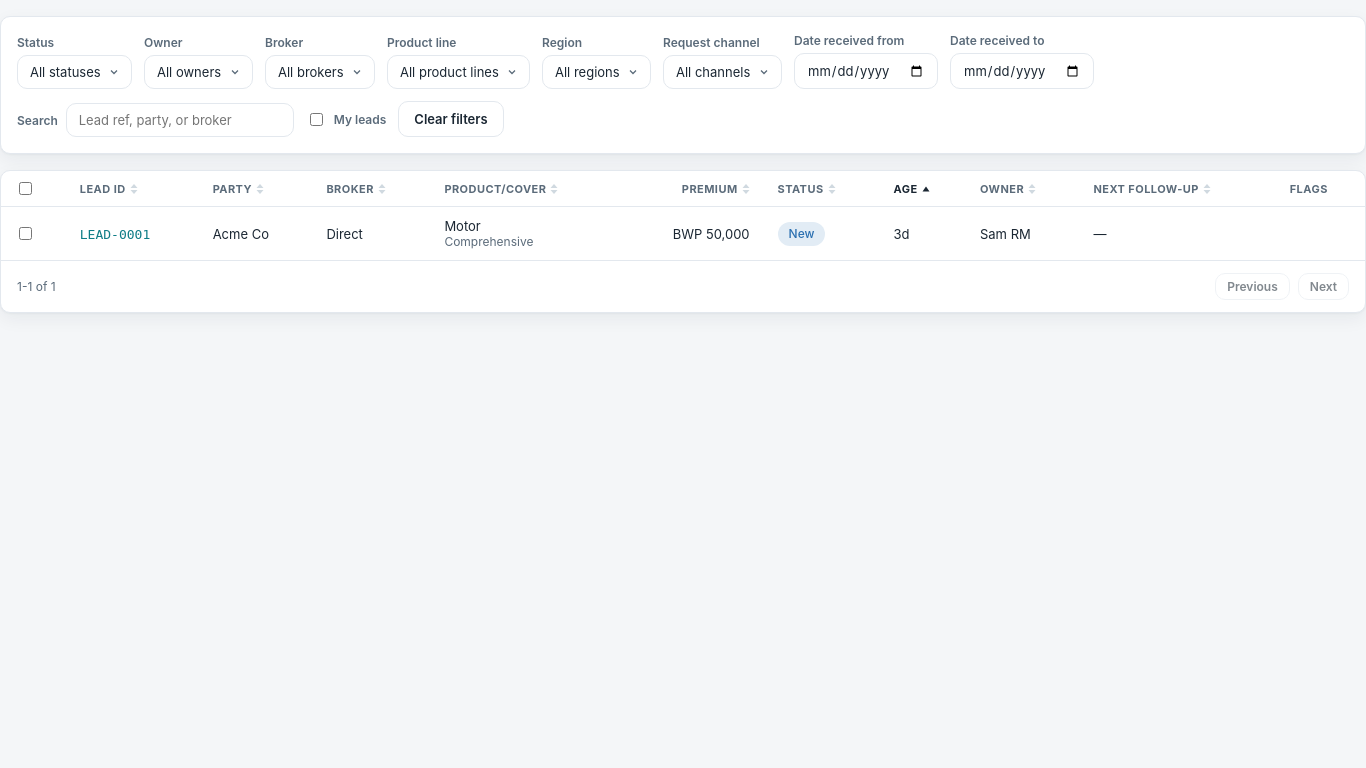
Test case: LeadsListPage › click_WhenBulkReassignSubmittedWithoutNote_ShouldShowInlineError
The width and height of the screenshot is (1366, 768).
expect the table with test id "leads-table" is shown: met, box x1=1 y1=171 x2=1365 y2=260
Click the checkbox named "Select lead LEAD-0001": (26, 234) x1=19 y1=227 x2=32 y2=240
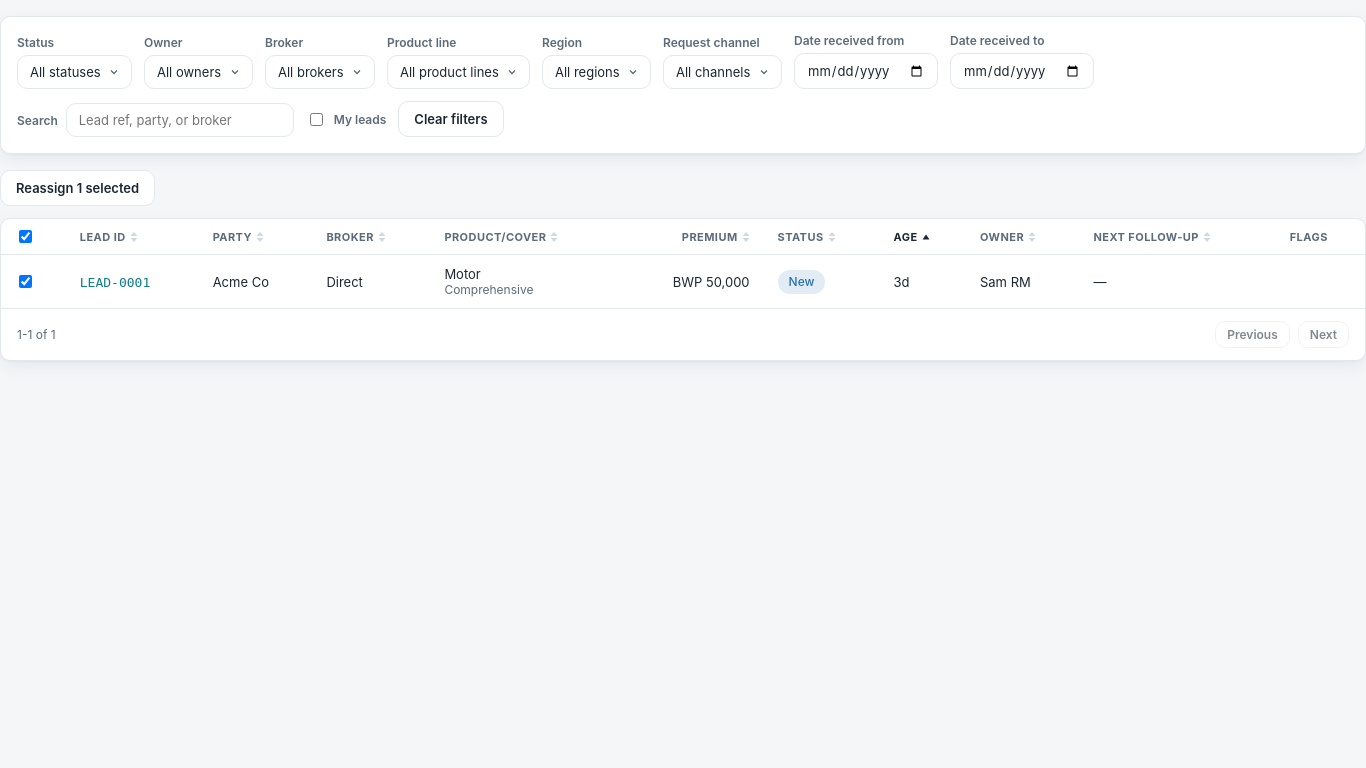
Click the button with test id "bulk-reassign-button": (78, 188) x1=0 y1=170 x2=155 y2=206
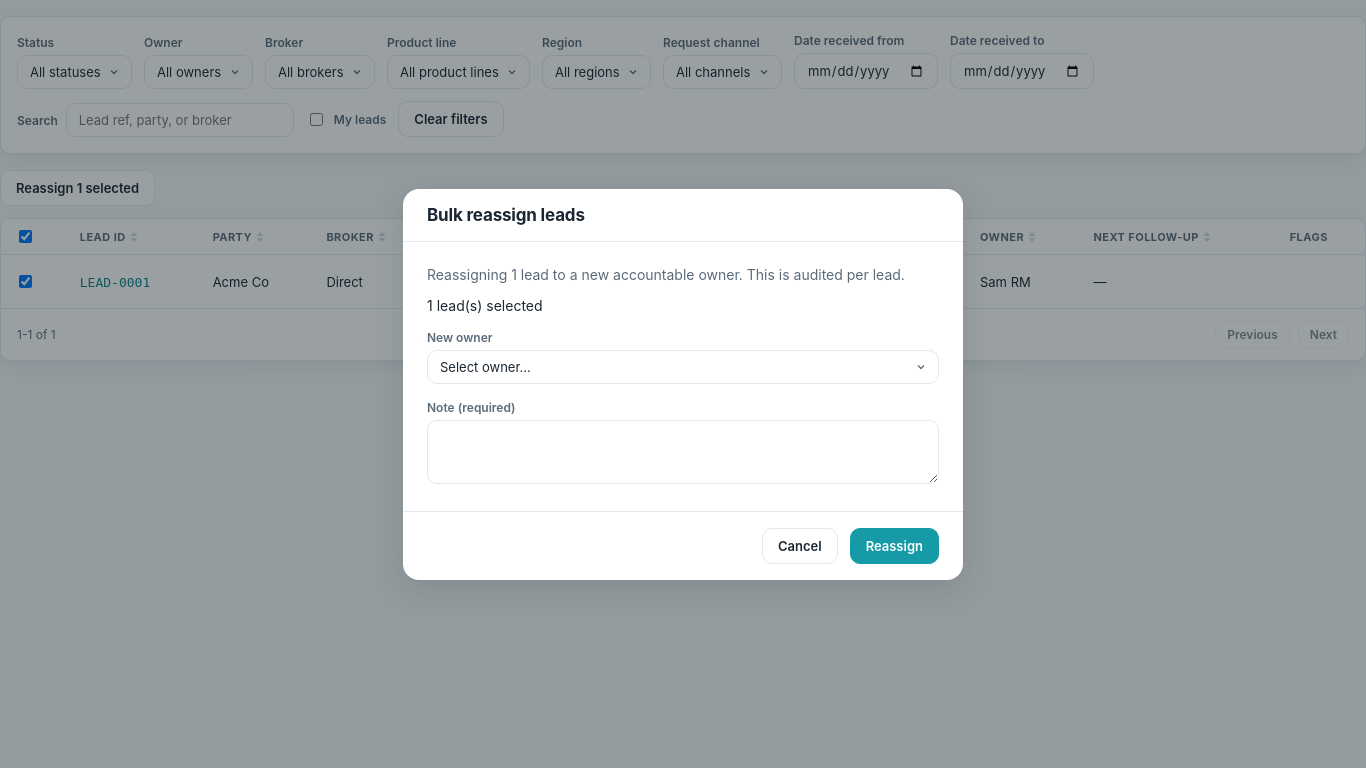
Click the button with test id "dialog-primary-button": (894, 546) x1=850 y1=528 x2=939 y2=564
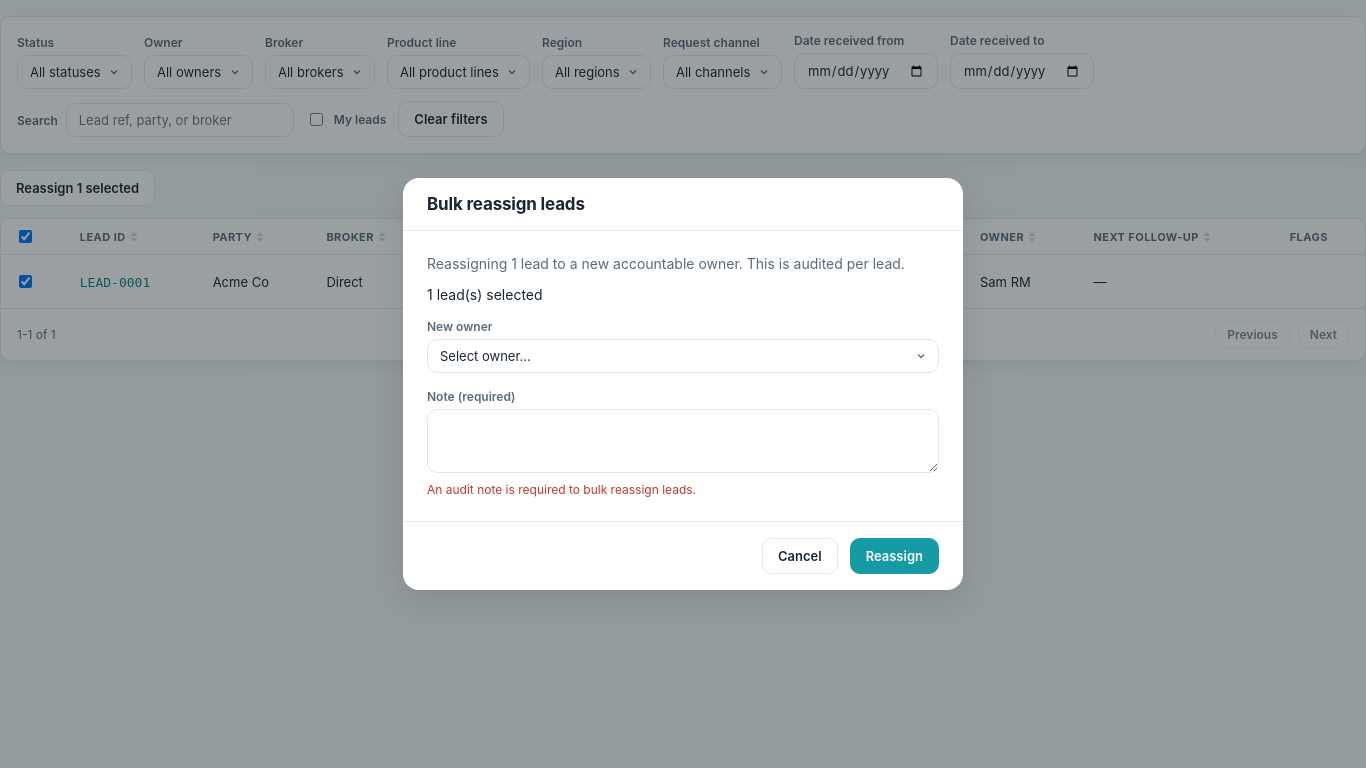
expect the message "An audit note is required to bulk reassign leads." is shown: met, box x1=427 y1=482 x2=696 y2=497
